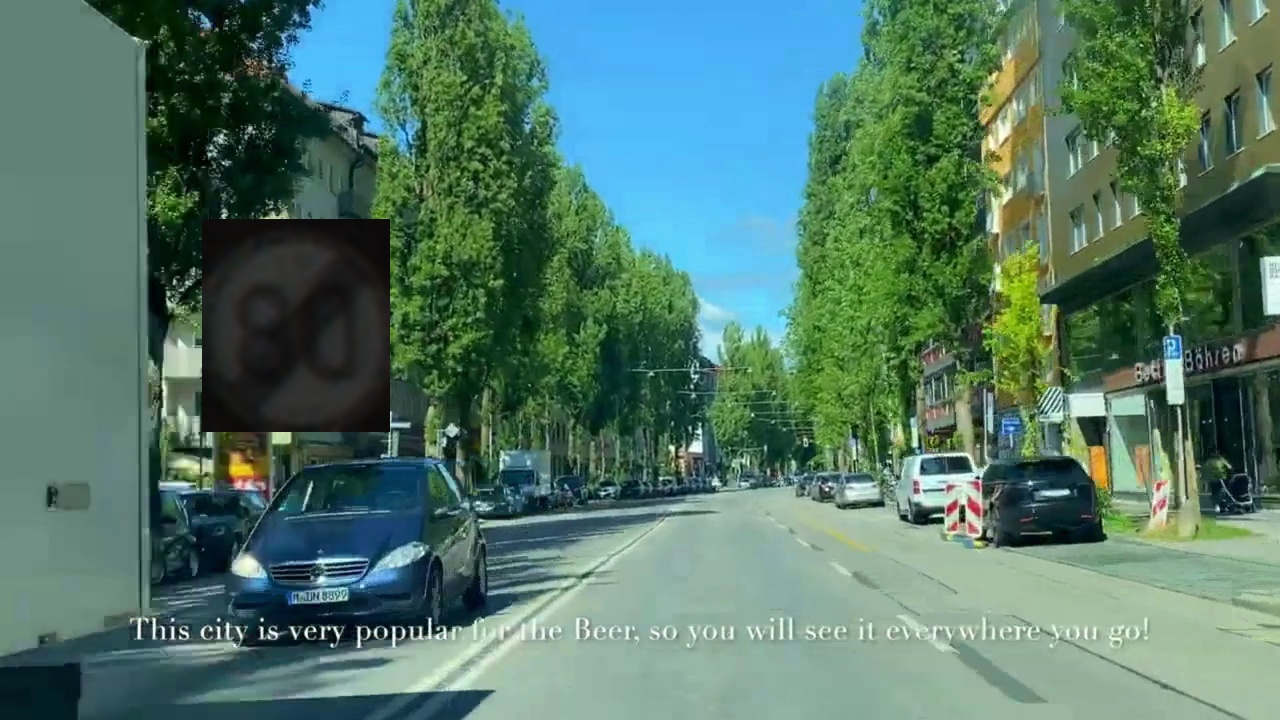End Speed 80: (202, 219, 390, 432)
